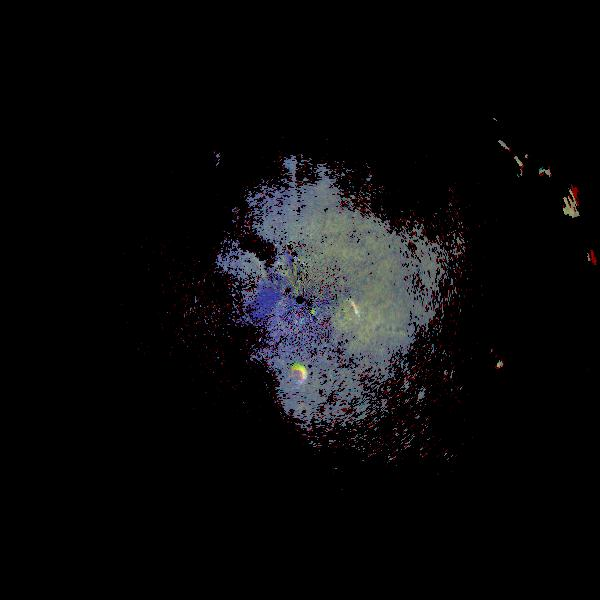roost: (286, 362, 313, 389), (342, 299, 366, 323)
